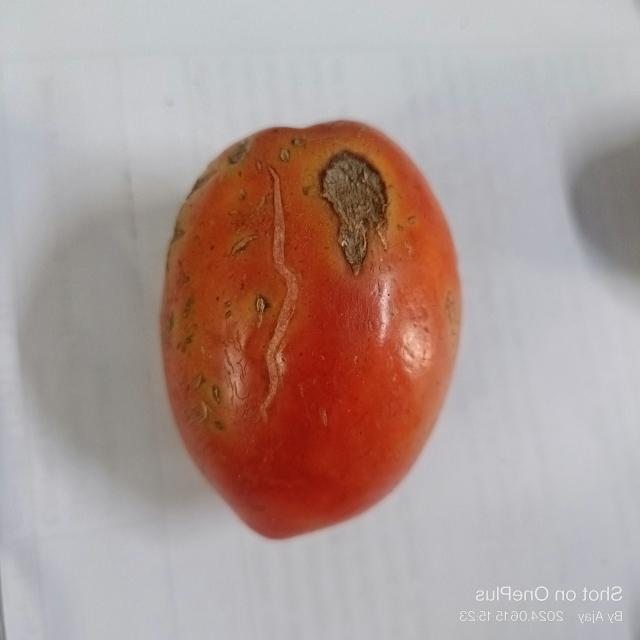tomato_cracking: (255, 159, 296, 437), (315, 149, 392, 278)
